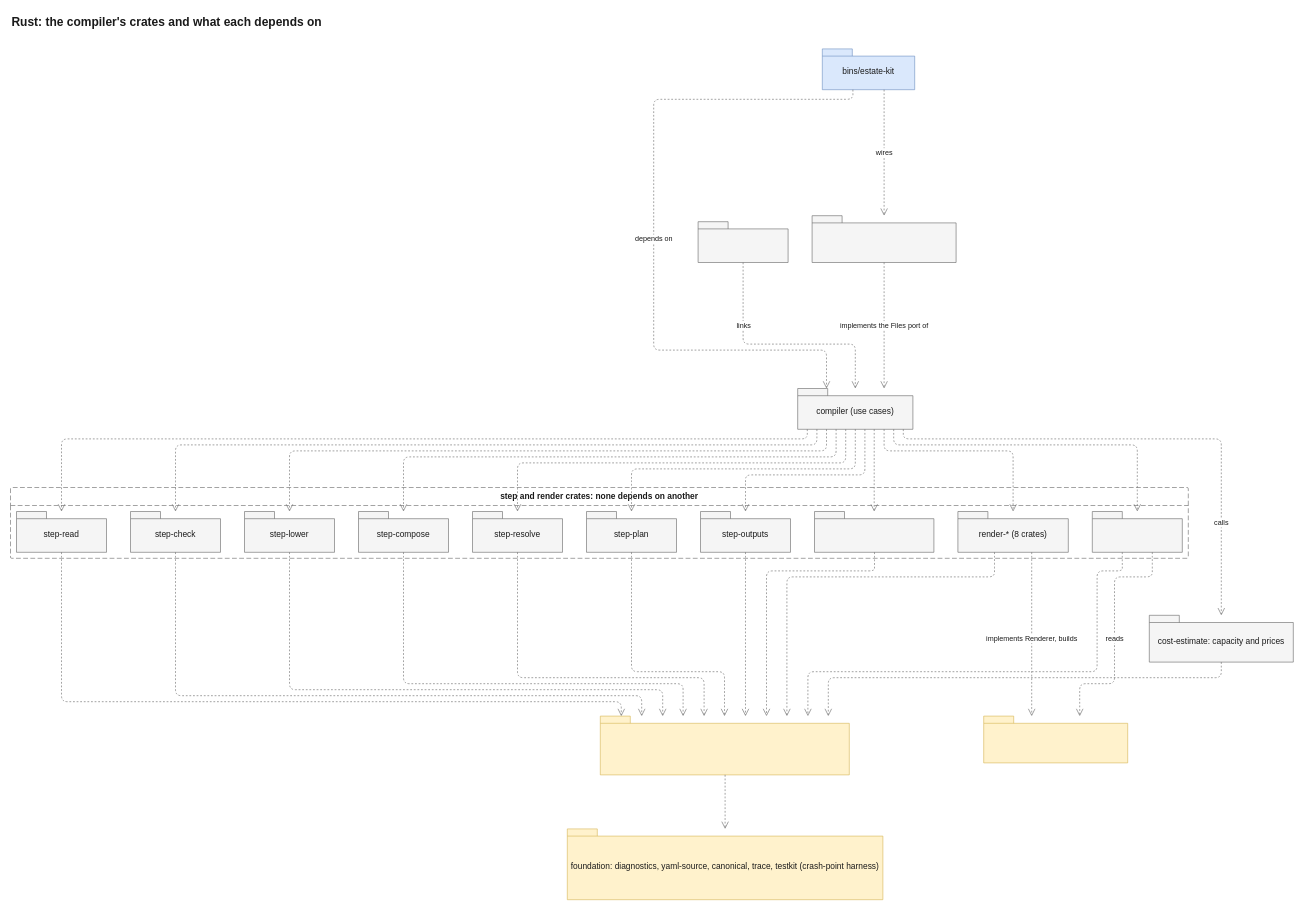
This 1304x910 diagram has some shape labels left out. The shapes that lost their labels are listed below. From the top down, each one's centre as x and y in pixels, then its label:
At point (743, 241): "delivery-app".
At point (884, 238): "adapter-fs: reads files, atomic write".
At point (874, 531): "render-nix: host data".
At point (1137, 531): "serialize".
At point (724, 745): "model-intent (core, profile, kind), model-effective, model-resolved".
At point (1055, 739): "deliverable: Deliverable, Renderer".
